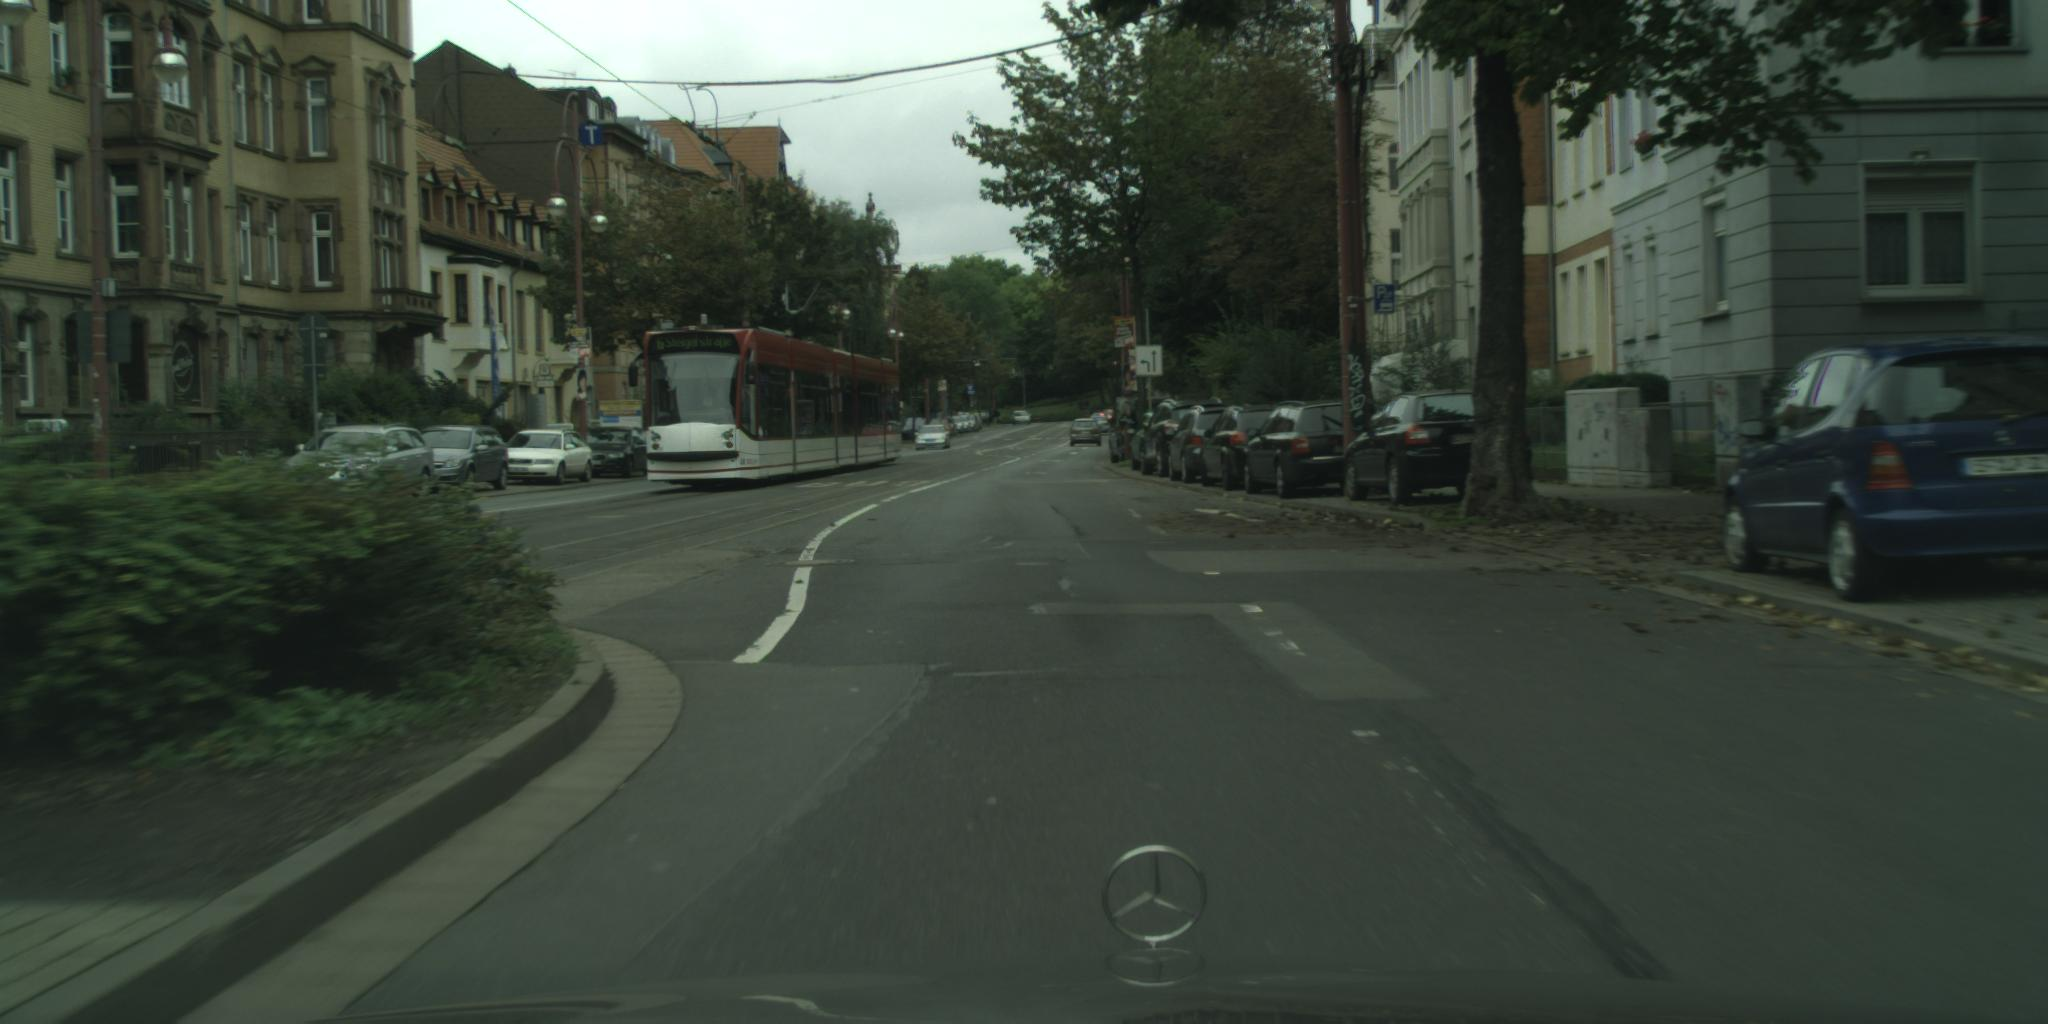car: (1725, 334, 2048, 607), (1343, 387, 1479, 505), (283, 424, 438, 505), (1246, 400, 1352, 502), (1198, 404, 1300, 491), (1140, 396, 1229, 479), (1164, 408, 1253, 485), (409, 426, 511, 492), (502, 428, 596, 488), (1108, 396, 1169, 465), (583, 424, 653, 479), (1127, 408, 1161, 475), (1068, 419, 1104, 449), (916, 424, 951, 452), (901, 417, 931, 441), (1010, 410, 1032, 427)
train: (630, 313, 903, 488)
